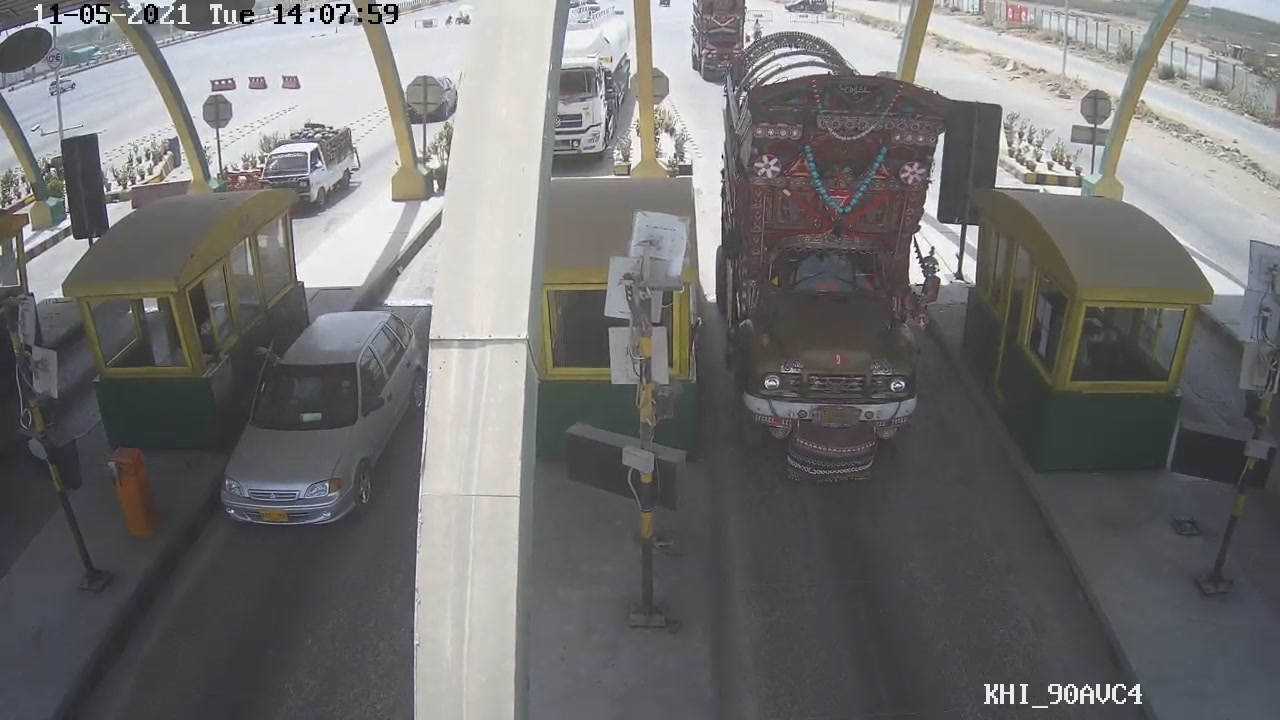F5: (712, 33, 965, 494)
